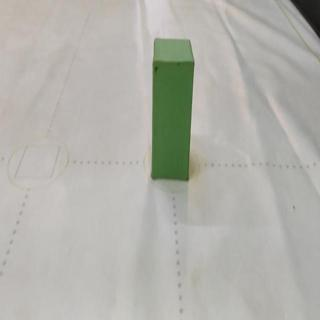greenbox: (151, 34, 195, 185)
